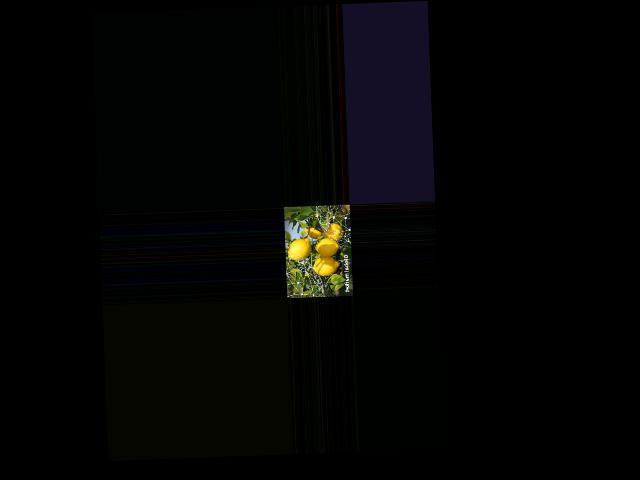lemon: (285, 237, 313, 261)
